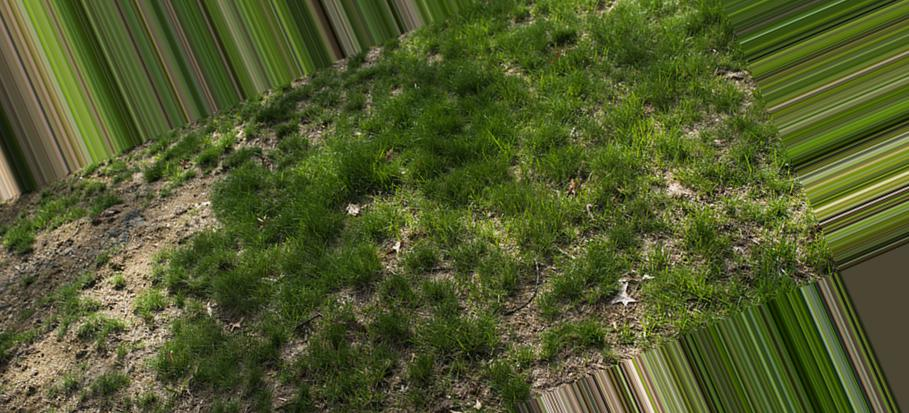patch: (525, 234, 670, 363), (96, 192, 195, 328)
